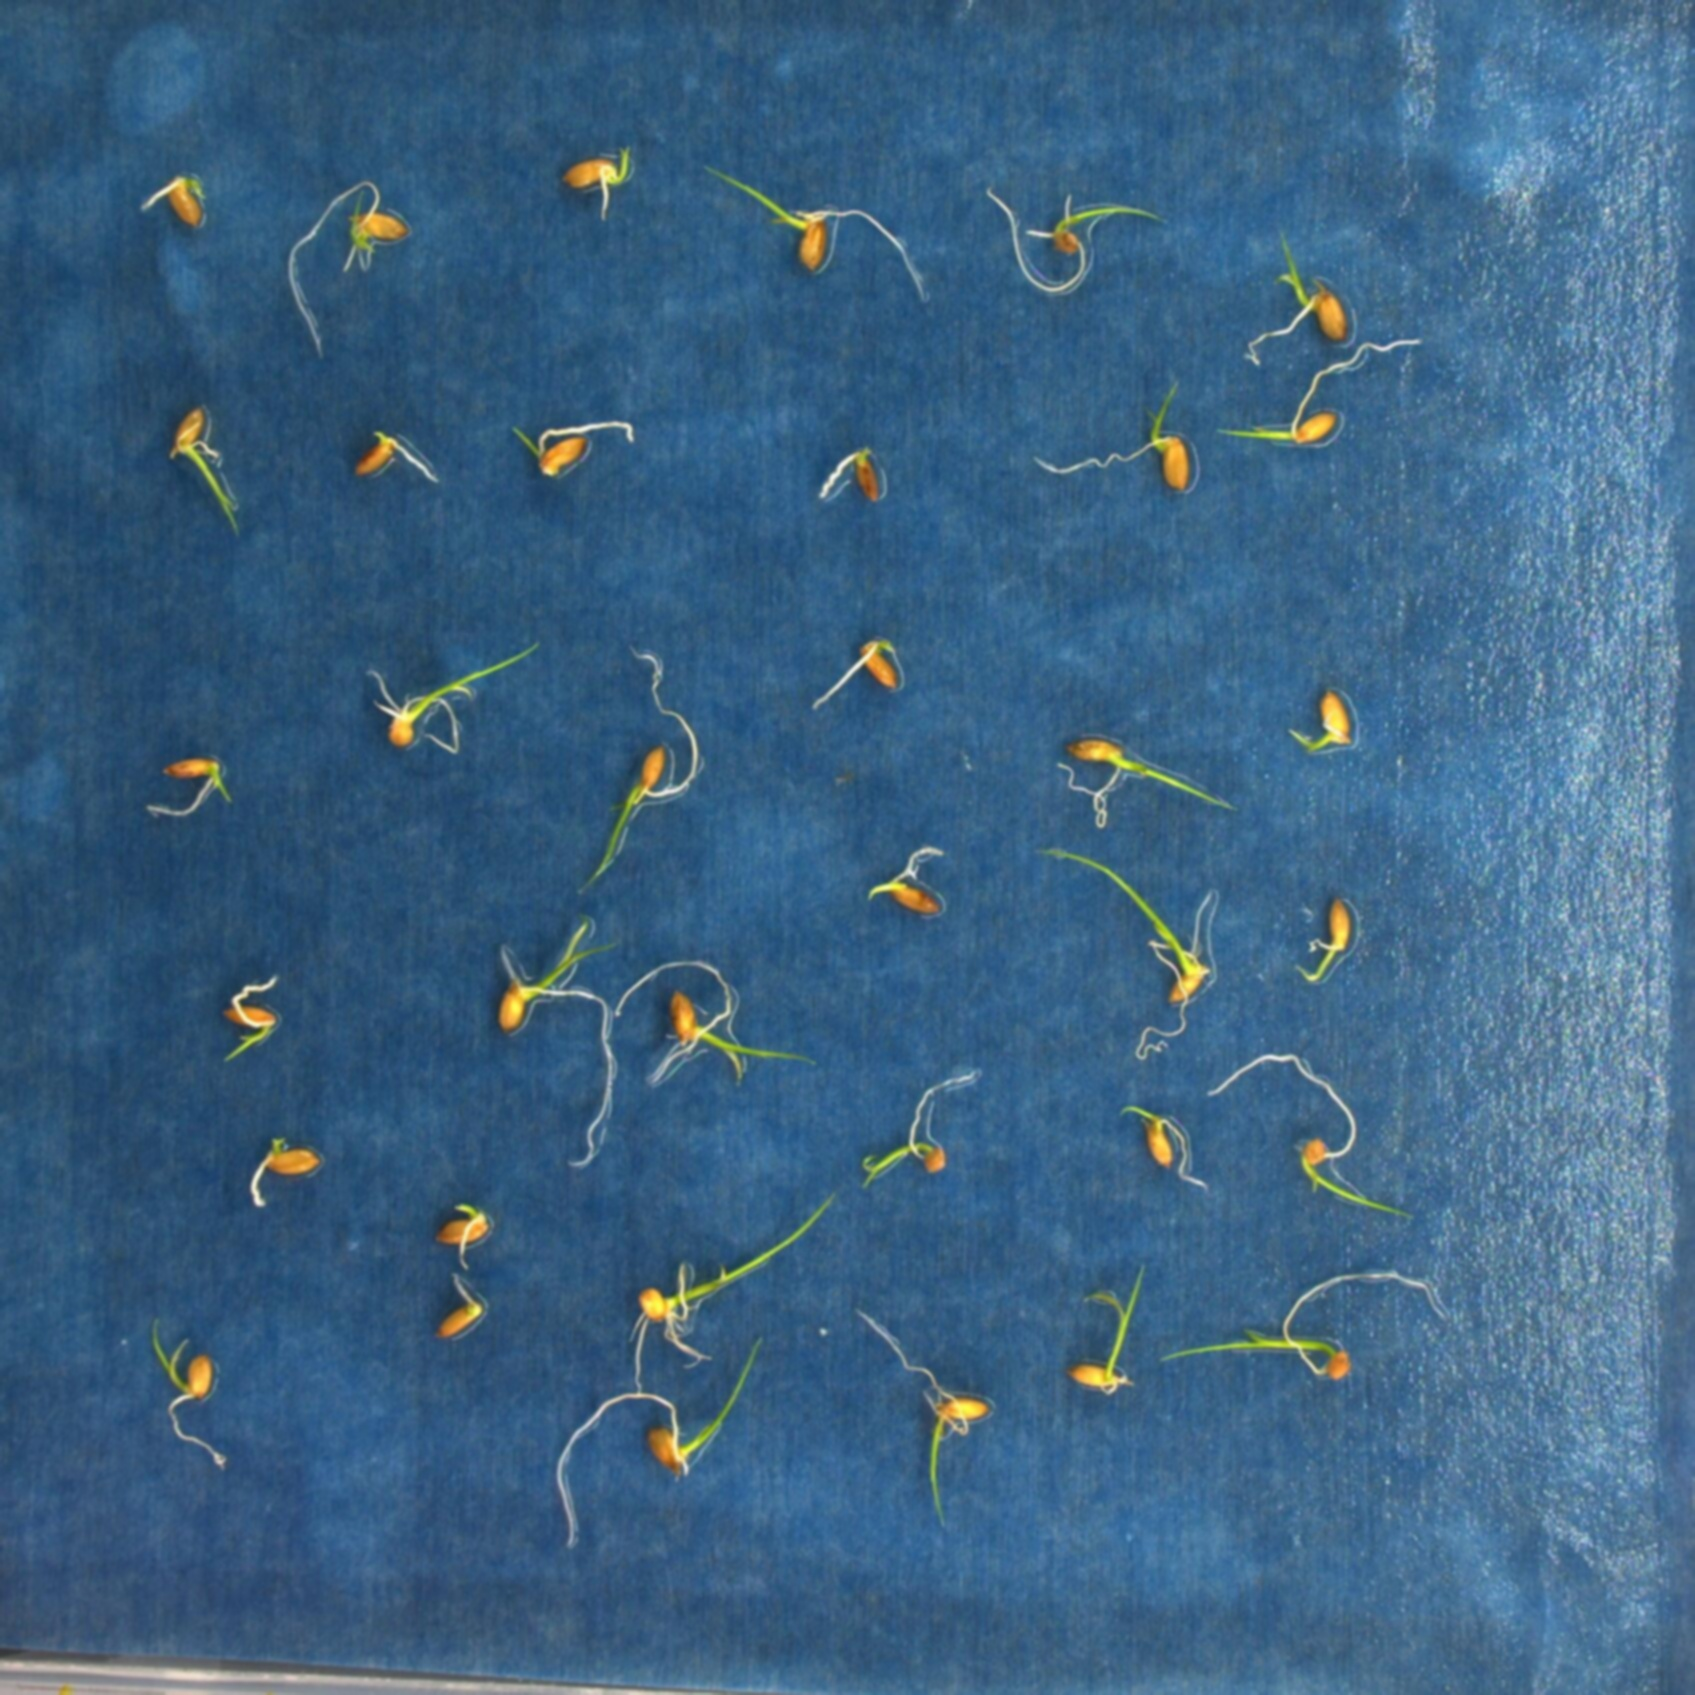not sprout: (804, 627, 914, 702), (865, 843, 959, 925), (349, 421, 435, 497), (255, 1130, 328, 1205), (802, 442, 882, 503), (428, 1277, 487, 1340)
sprout: (543, 1319, 775, 1555), (629, 1181, 854, 1395), (1031, 837, 1237, 1069), (697, 147, 930, 321), (1206, 1043, 1420, 1226), (1144, 1267, 1454, 1392), (567, 643, 706, 900), (855, 1309, 998, 1543), (483, 936, 618, 1178), (1211, 329, 1447, 458), (276, 171, 428, 369), (345, 633, 546, 764), (975, 169, 1184, 290), (618, 948, 778, 1096), (1040, 730, 1243, 841), (1031, 376, 1198, 500), (849, 1062, 986, 1212), (140, 1309, 237, 1475), (1246, 227, 1349, 371), (1063, 1246, 1149, 1414), (161, 400, 258, 545), (203, 969, 303, 1066), (1121, 1087, 1212, 1192), (504, 410, 647, 477), (1288, 893, 1366, 989), (553, 140, 647, 217), (141, 750, 237, 826), (1284, 681, 1369, 761), (421, 1197, 490, 1260), (144, 169, 211, 231)
